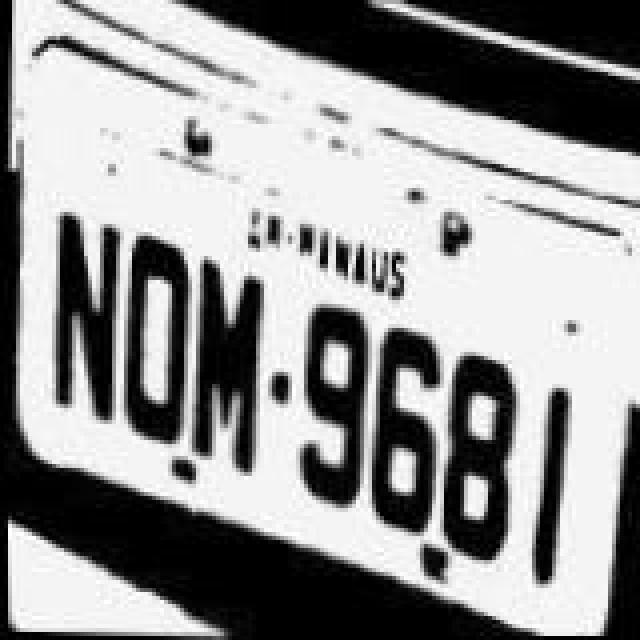1: (510, 306, 598, 598)
6: (360, 298, 452, 582)
8: (432, 296, 532, 592)
9: (278, 278, 370, 566)
M: (178, 220, 274, 520)
N: (38, 190, 130, 466)
O: (108, 210, 200, 490)
